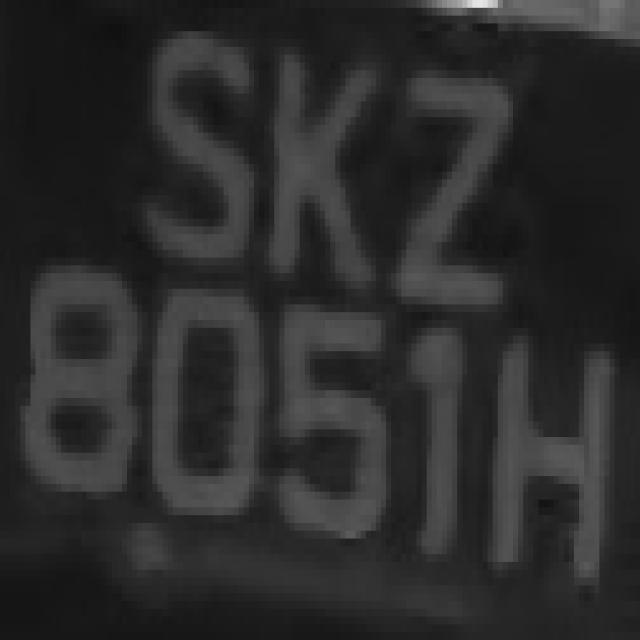0: (147, 258, 264, 546)
1: (407, 297, 478, 554)
5: (254, 273, 396, 570)
8: (20, 234, 137, 539)
H: (488, 281, 624, 601)
K: (239, 23, 376, 320)
S: (127, 16, 264, 281)
Z: (361, 39, 523, 336)
